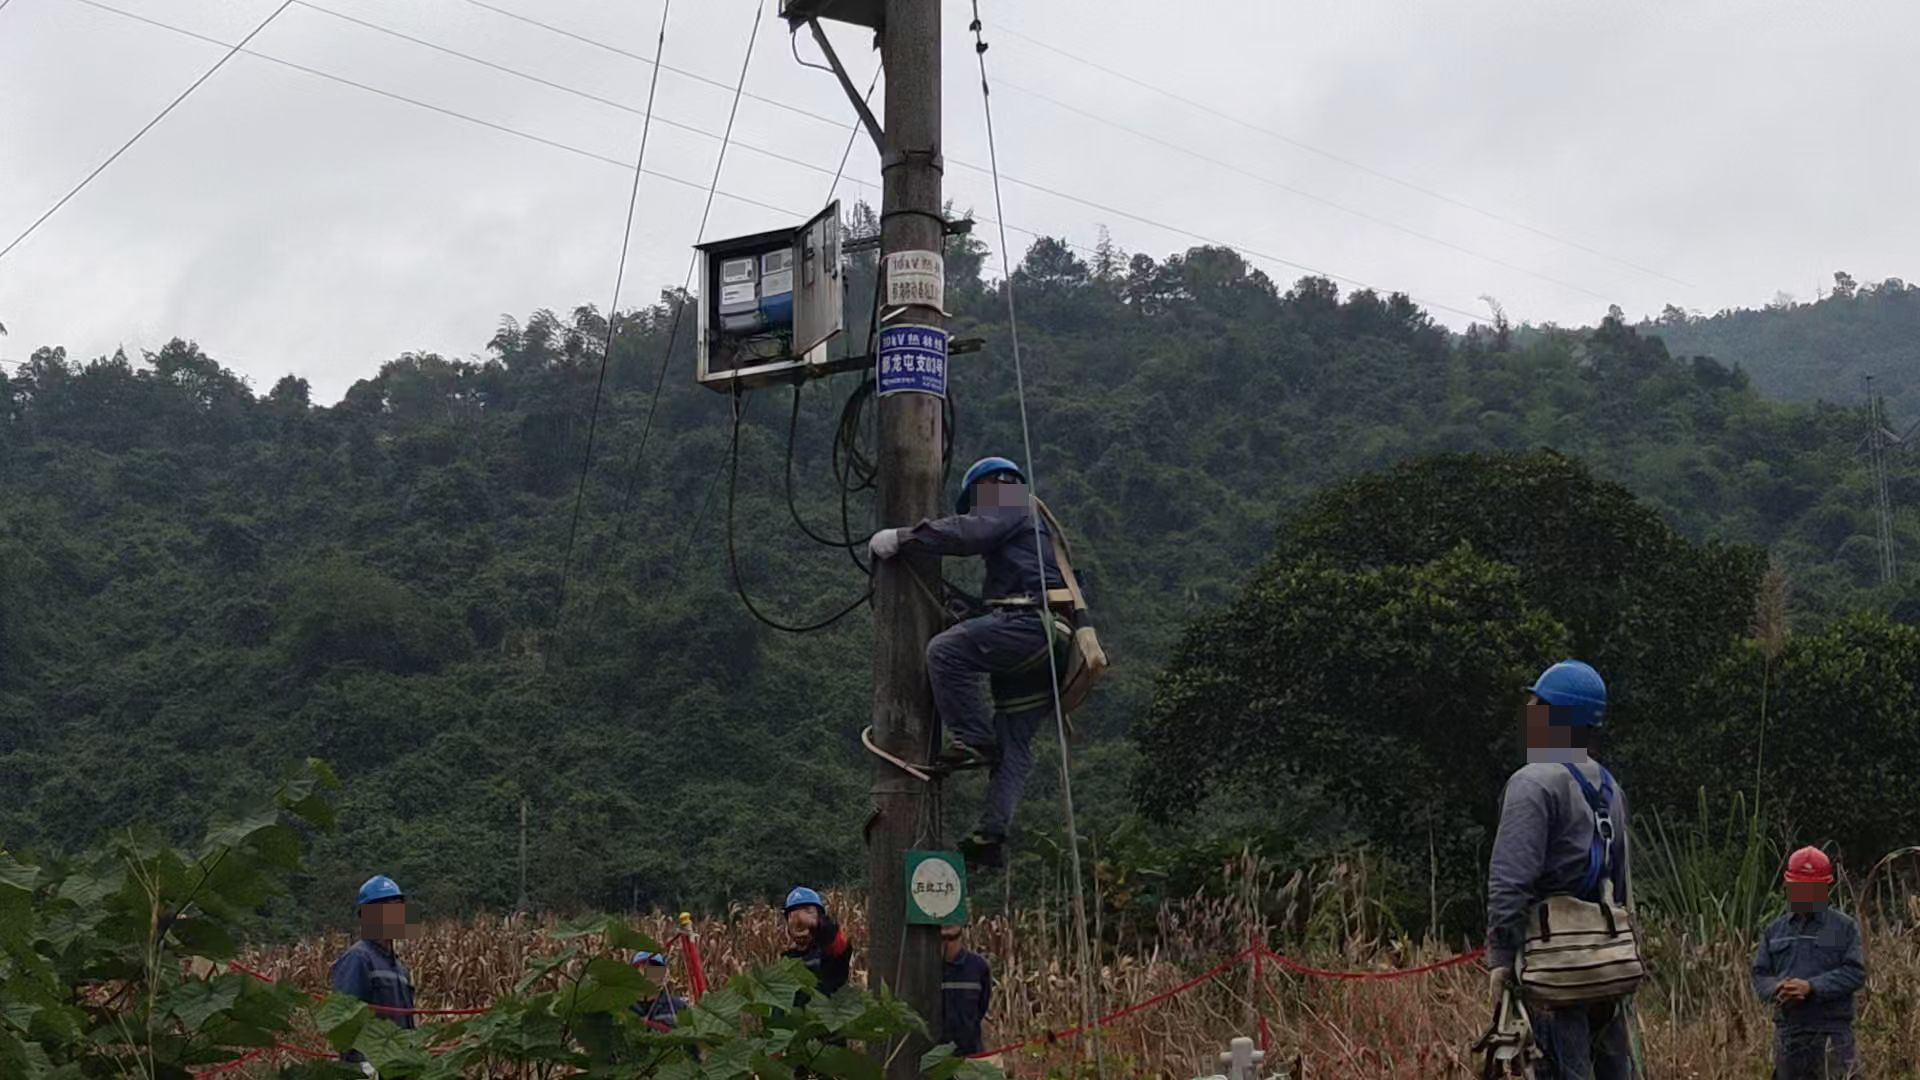badge: (816, 923, 851, 956)
downsuit: (924, 616, 1064, 844), (1774, 1015, 1860, 1080)
halt: (1522, 658, 1612, 747), (1780, 844, 1840, 914), (959, 455, 1028, 511), (356, 876, 409, 939), (783, 889, 825, 940)
hand: (1778, 975, 1810, 1003)
inear: (1526, 689, 1561, 746)
person: (878, 454, 1102, 872), (1477, 652, 1642, 1080), (1745, 836, 1876, 1079), (321, 874, 427, 1062), (913, 896, 995, 1065), (779, 887, 861, 991)
safebelt: (1528, 740, 1623, 903)
upsuit: (1489, 745, 1626, 934), (894, 495, 1078, 613), (1756, 912, 1866, 1019), (327, 939, 421, 1030), (941, 952, 995, 1038)
wglove: (1483, 964, 1517, 1013), (864, 525, 903, 562)
worksign: (907, 853, 964, 927)
